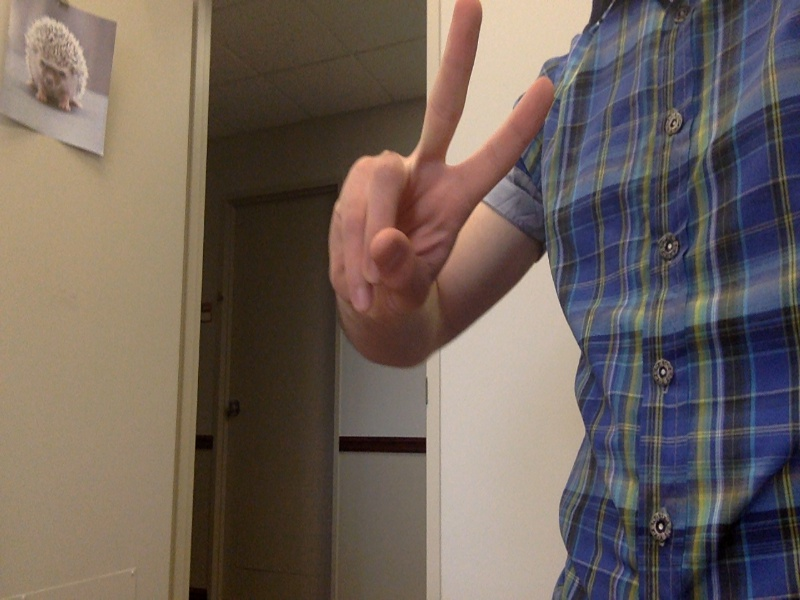2-hand: (333, 4, 551, 320)
